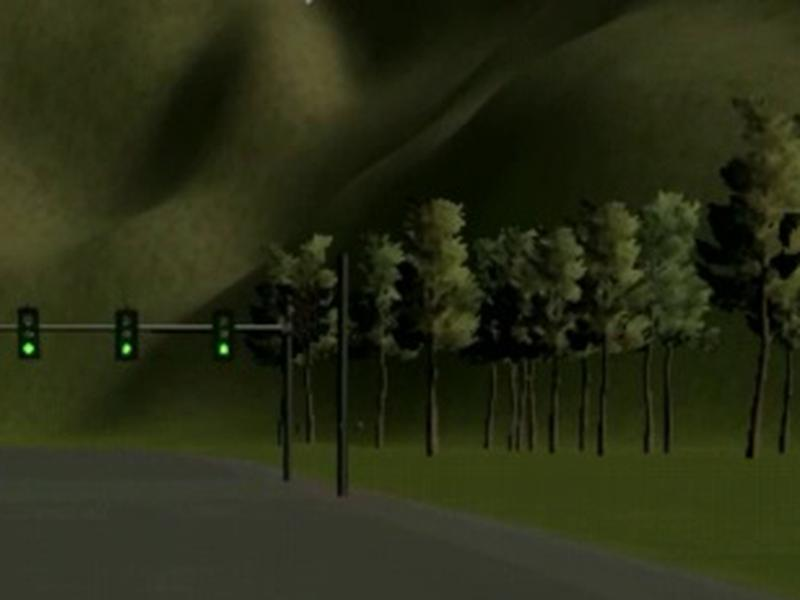Green: (212, 308, 237, 361), (114, 308, 138, 359), (16, 307, 39, 360)
